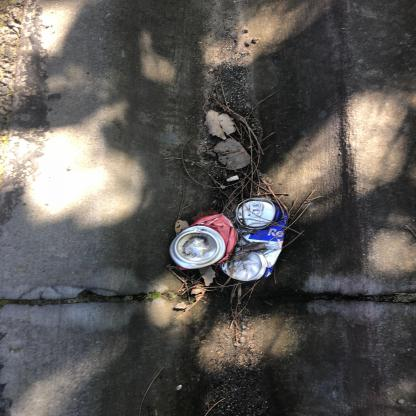Cigarette: (227, 175, 239, 182)
Drink can: (220, 198, 288, 281), (169, 214, 238, 270)
Pop tab: (250, 202, 263, 217)
